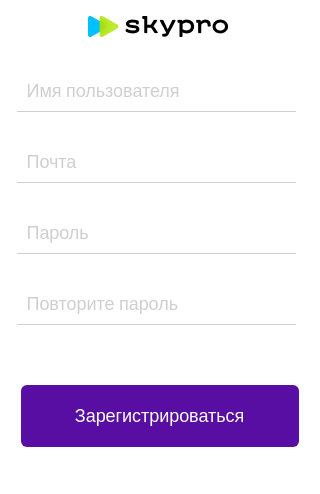
it: Signup component › should display error when password and repeat password are different
Type "Ann" into the field with placeholder "Имя пользователя" at point(156, 91), box [16,70,296,112]
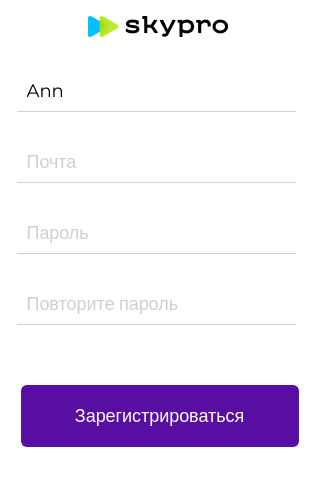
Type "test@example.com" into the field with placeholder "Почта" at point(156, 162), box [16,142,296,182]
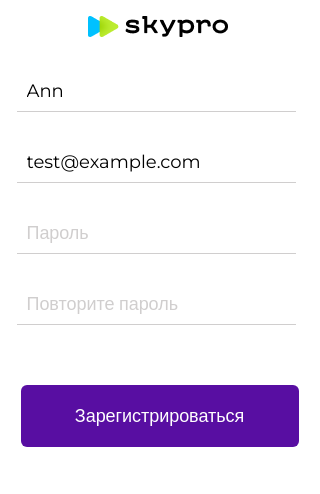
Type "123456" into the password field with placeholder "Пароль" at point(156, 233), box [16,212,296,254]
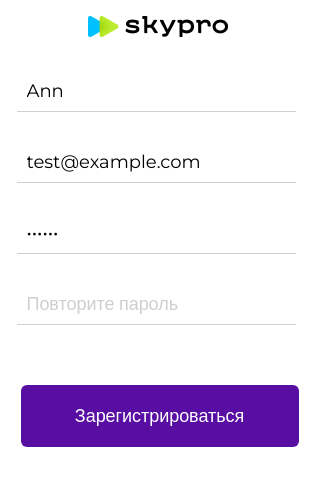
Type "123457" into the password field with placeholder "Повторите пароль" at point(156, 304), box [16,284,296,324]
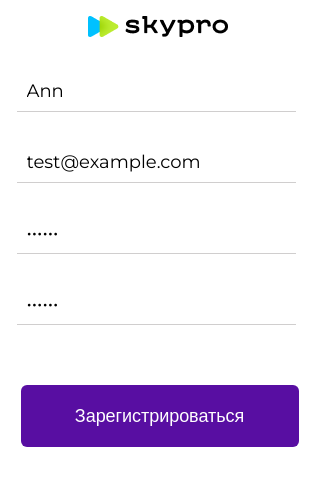
Click the link "Зарегистрироваться" at point(159, 416), box [75,404,244,426]
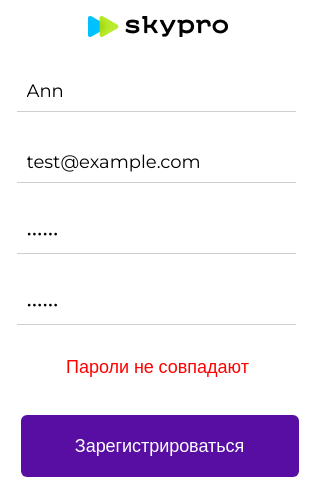
Now the text "Пароли не совпадают" is shown, box [66,354,249,378]
